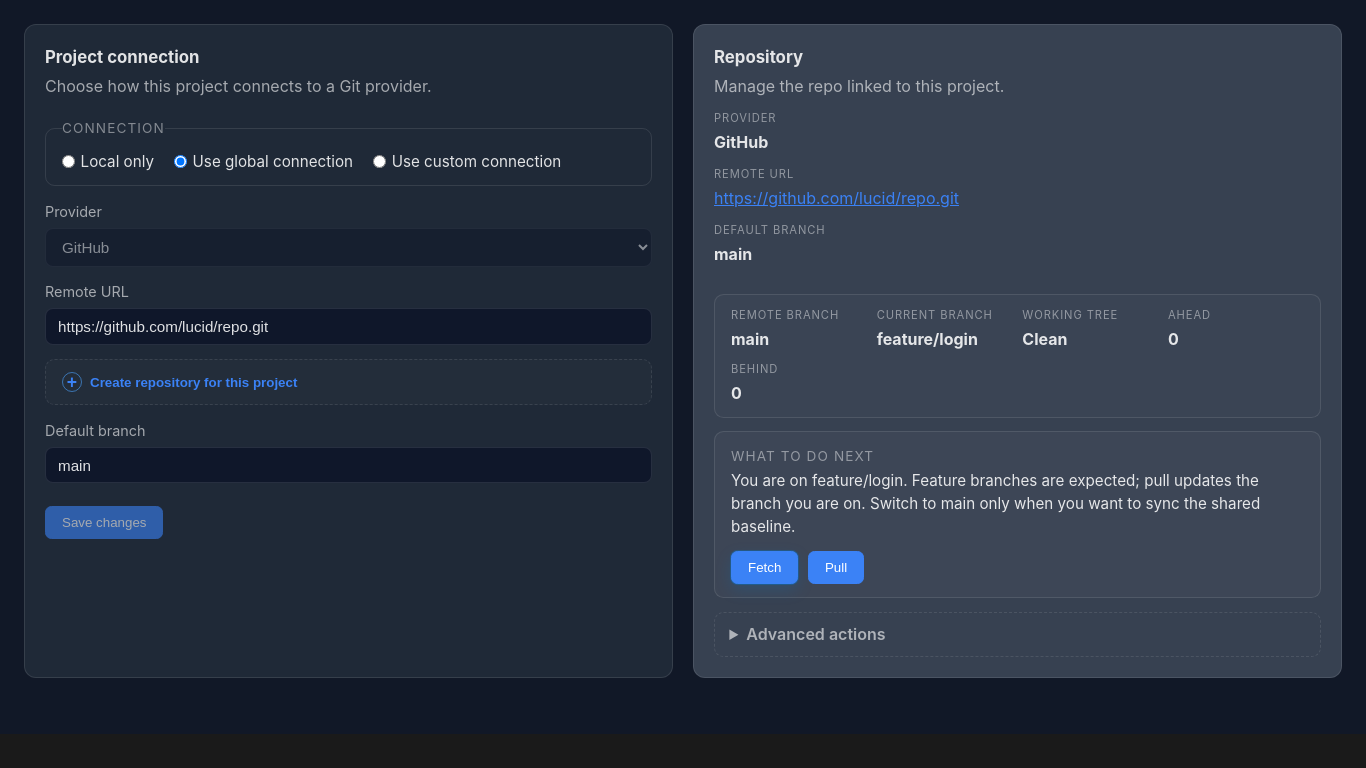
Scenario: GitTab › branch mismatch guidance and pull warning are shown
Check: the text "You are on feature/login" is shown, box [731, 471, 1260, 536]
What coordinates should you click on to do the following:
click the button with test id "git-pull-remote"
I would click on:
 (836, 567)
Its box is [808, 551, 864, 584].
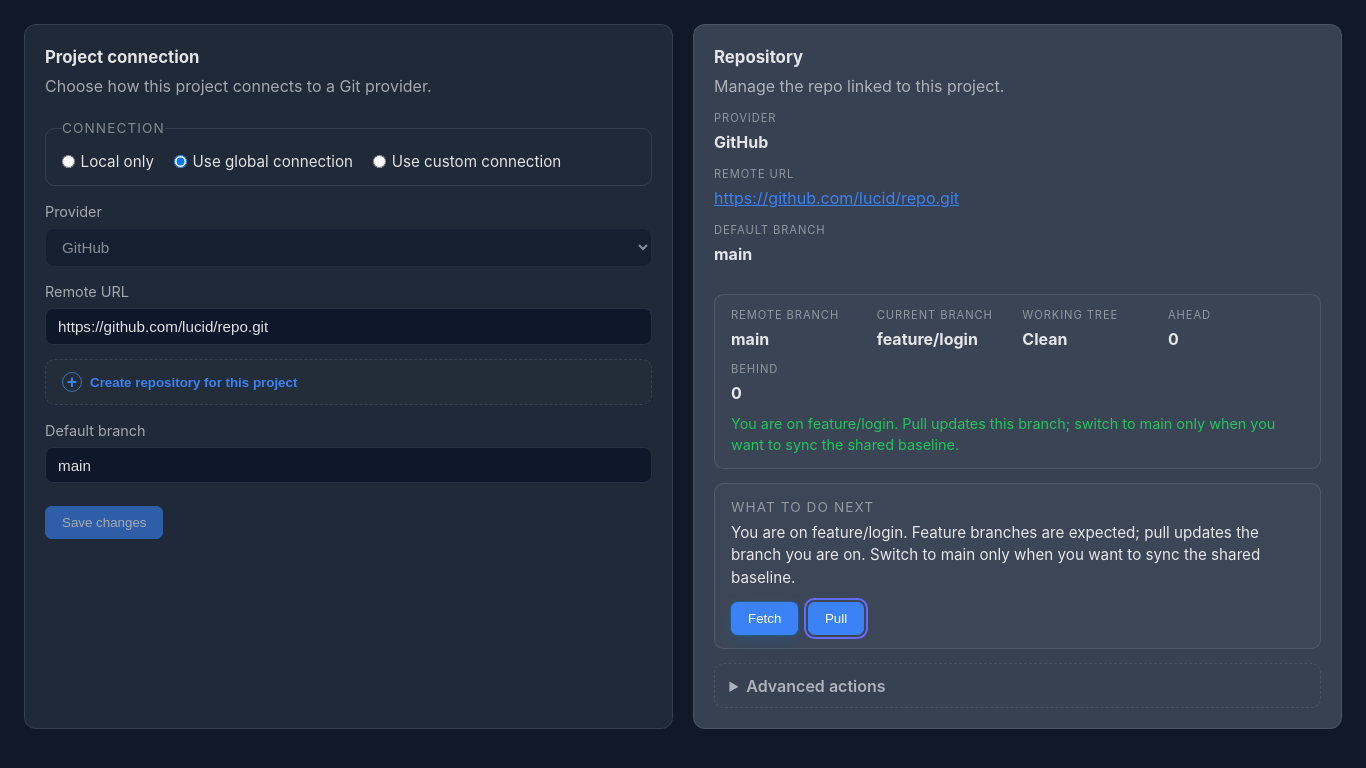
Check: the text "Pull updates this branch" is shown, box [731, 415, 1275, 453]
